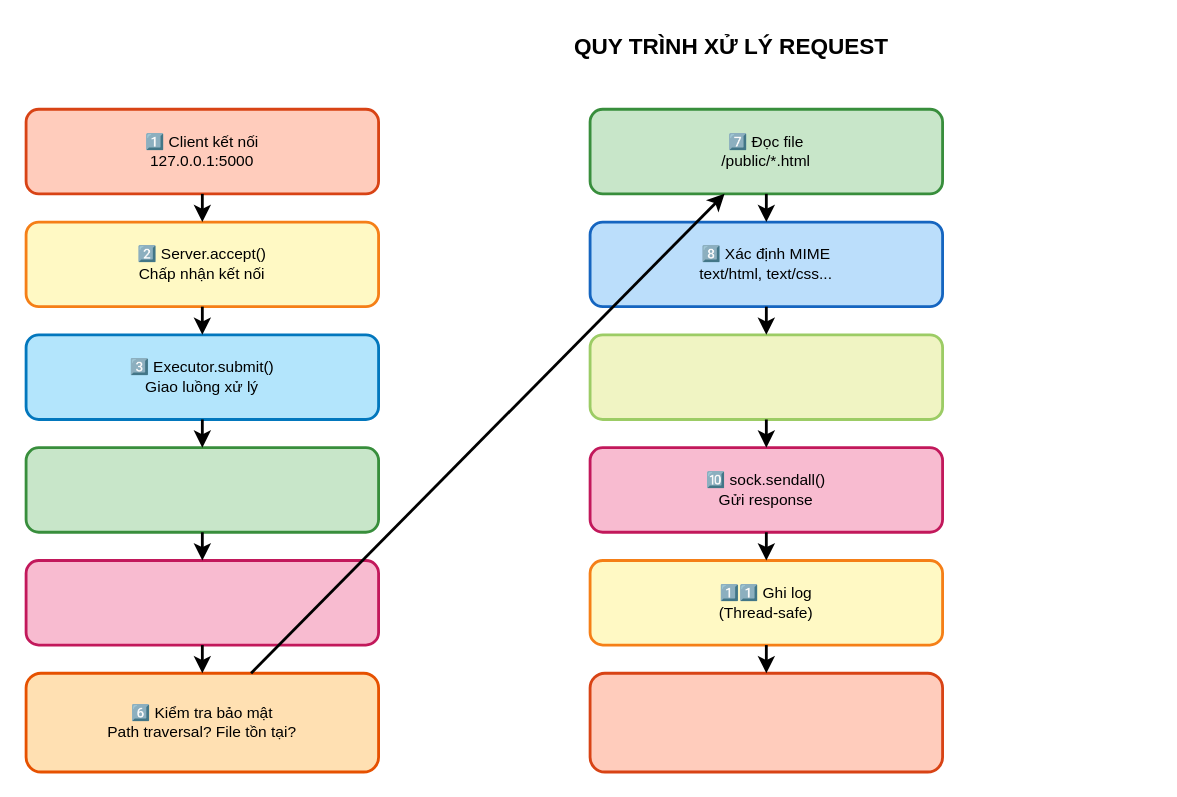
This 1177x797 diagram has some shape labels left out. The shapes that lost their labels are listed below. From the top down, each one's centre as x and y in pixels, then its label:
the point at 765,376: 9️⃣ Tạo response HTTP/1.1 200 OK
the point at 201,489: 4️⃣ sock.recv() Nhận request
the point at 201,602: 5️⃣ Parse HTTP Method, path, headers
the point at 765,722: 1️⃣2️⃣ Đóng connection Trả thread về pool
